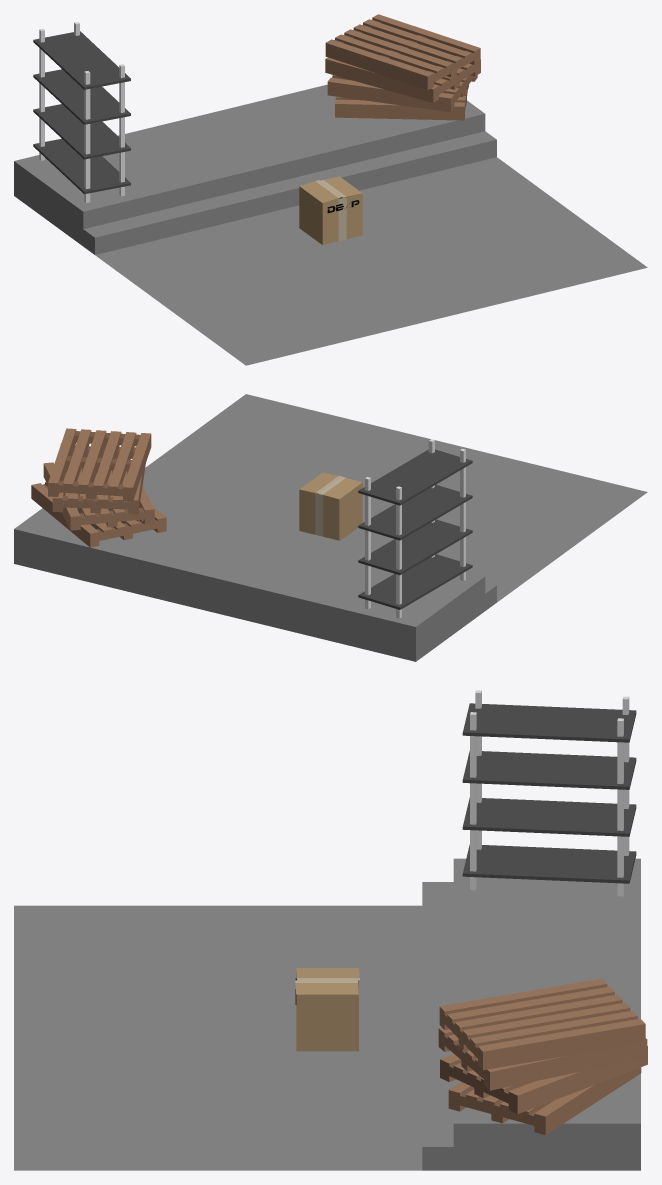
3 renders of one model, top to bottom at view 1: azimuth 30°, elevation 25°; view 2: azimuth 150°, elevation 25°; view 3: azimuth 270°, elevation 25°, orthographic. The views are drawn at different scales.
Visible parts, largest first — view 1: Plane, Cube, Cube.004, Cube.005, Cube.003, Cube.002, Cube.001; view 2: Plane, Cube, Cube.004, Cube.005, Cube.001, Cube.002, Cube.003; view 3: Plane, Cube, Cube.004, Cube.005, Cube.003, Cube.002, Cube.001.
Boxes of the visible parts, x1,y1,x2,y2 form: Plane: (14, 84, 647, 365); Cube: (33, 22, 130, 202); Cube.004: (325, 14, 480, 90); Cube.005: (299, 176, 362, 244); Cube.003: (325, 57, 480, 102); Cube.002: (327, 75, 477, 112); Cube.001: (335, 85, 468, 120); Plane: (14, 394, 647, 661); Cube: (358, 439, 472, 618); Cube.004: (48, 428, 151, 501); Cube.005: (299, 472, 362, 540); Cube.001: (31, 482, 166, 547); Cube.002: (43, 458, 154, 530); Cube.003: (52, 444, 145, 514); Plane: (14, 858, 640, 1170); Cube: (462, 690, 636, 896); Cube.004: (439, 978, 645, 1070); Cube.005: (295, 968, 359, 1051); Cube.003: (438, 1027, 647, 1090); Cube.002: (440, 1046, 647, 1114); Cube.001: (448, 1067, 641, 1134).
Bounding box in the file's own units: 2089 × 783 × 2022.
